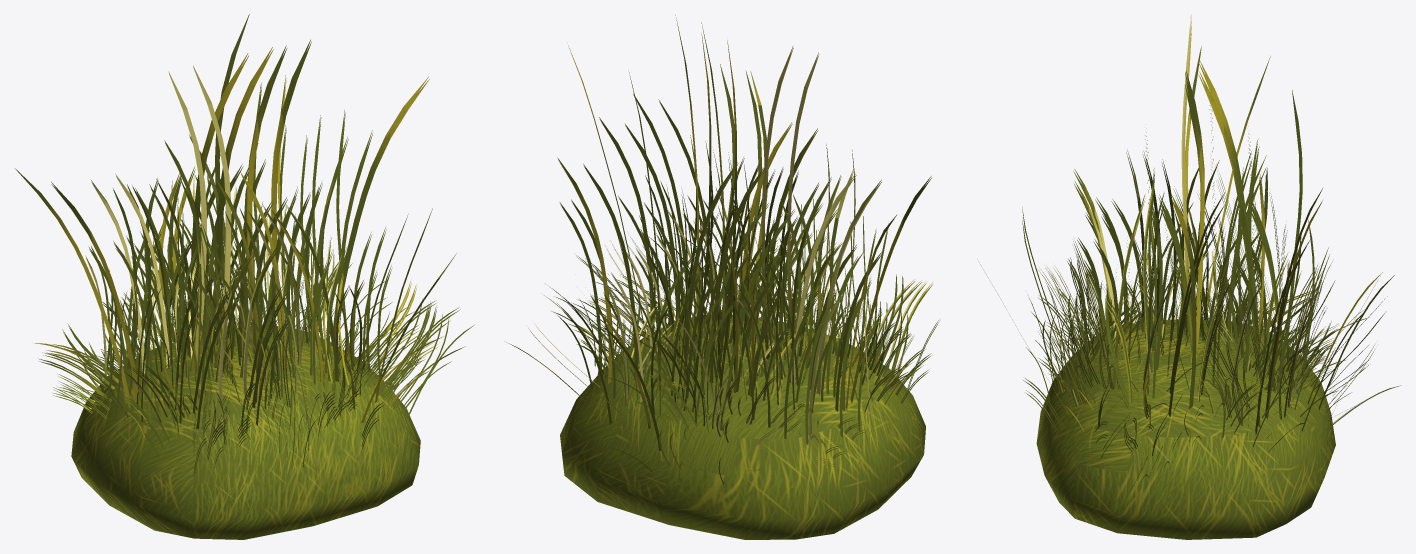
The model's file is SM_TestGrass.fbx.
3 views of the same model, side by side, from view 1: azimuth 30°, elevation 25°; view 2: azimuth 150°, elevation 25°; view 3: azimuth 270°, elevation 25° (orthographic). The views are drawn at different scales.
Parts seen in each view (by area): view 1: grass, rock_tuft; view 2: grass, rock_tuft; view 3: grass, rock_tuft.
Boxes of the visible parts, box(x1,y1,x2,y2) form: grass: box(15, 14, 473, 474); rock_tuft: box(71, 326, 420, 539); grass: box(506, 15, 939, 498); rock_tuft: box(560, 314, 925, 539); grass: box(977, 14, 1401, 487); rock_tuft: box(1036, 319, 1335, 539).
Size of the model in its own units: 48.92 by 50.95 by 46.13.
